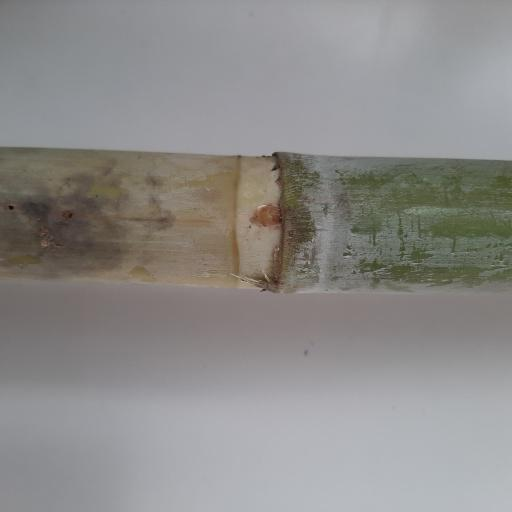Damage_Bud: (249, 201, 283, 228)
